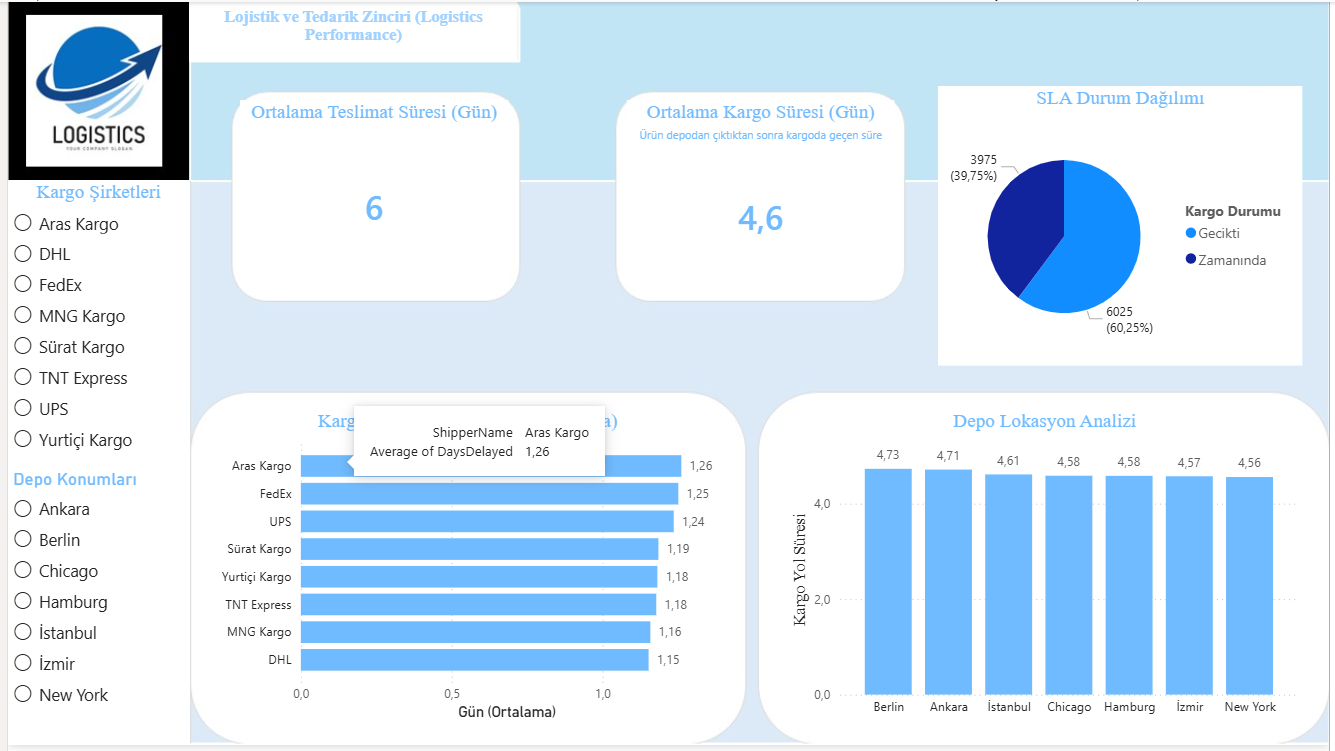

This screenshot's page, from the dashboard's own definition file:
{"tool":"powerbi","page":{"name":"Lojistik ve Tedarik Zinciri (Logistics Performance)","canvas":[1280,720],"ordinal":1},"visuals":[{"type":"textbox","box":[175.8,0,318.4,58.3],"z":0},{"type":"cardVisual","title":"Ortalama Teslimat Süresi (Gün)","fields":{"Data":["Avg(vW_Dashboard_Base.TotalDeliveryDays)"]},"box":[225.1,95.1,260.1,181.2],"z":1000},{"type":"cardVisual","title":"Ortalama Kargo Süresi (Gün)","fields":{"Data":["Avg(vW_Dashboard_Base.ShippingDurationDays)"]},"box":[600.1,95.1,259.2,181.2],"z":2000},{"type":"listSlicer","title":"Kargo Şirketleri","fields":{"Values":["vW_Dashboard_Base.ShipperName"]},"box":[0,172.2,175.8,279],"z":3000},{"type":"clusteredBarChart","title":"Kargo Firması Performansı (Ortalama)","fields":{"Category":["vW_Dashboard_Base.ShipperName"],"Y":["Avg(vW_Dashboard_Base.DaysDelayed)"]},"box":[194.6,394.7,501.4,306.8],"z":4000},{"type":"clusteredColumnChart","title":"Depo Lokasyon Analizi","fields":{"Category":["vW_Dashboard_Base.WareHouseLocation"],"Y":["Avg(vW_Dashboard_Base.ShippingDurationDays)"]},"box":[753.5,394.7,501.4,306.8],"z":5000},{"type":"pieChart","title":"SLA Durum Dağılımı","fields":{"Category":["vW_Dashboard_Base.DeliveryStatus"],"Y":["CountNonNull(vW_Dashboard_Base.OrderID)"]},"box":[901.5,81.6,353.4,270.9],"z":6000},{"type":"listSlicer","title":"Depo Konumları","fields":{"Values":["vW_Dashboard_Base.WareHouseLocation"]},"box":[0,451.2,175.8,269.1],"z":7000}]}

Visuals, with their boxes in screenshot pixels (x1, y1, x2, y2), scaled from the page's 1280x720 canvas onto the 1335x751 screenshot:
textbox: [x1=183, y1=0, x2=515, y2=61]
"Ortalama Teslimat Süresi (Gün)" cardVisual: [x1=235, y1=99, x2=506, y2=288]
"Ortalama Kargo Süresi (Gün)" cardVisual: [x1=626, y1=99, x2=896, y2=288]
"Kargo Şirketleri" listSlicer: [x1=0, y1=180, x2=183, y2=471]
"Kargo Firması Performansı (Ortalama)" clusteredBarChart: [x1=203, y1=412, x2=726, y2=732]
"Depo Lokasyon Analizi" clusteredColumnChart: [x1=786, y1=412, x2=1309, y2=732]
"SLA Durum Dağılımı" pieChart: [x1=940, y1=85, x2=1309, y2=368]
"Depo Konumları" listSlicer: [x1=0, y1=471, x2=183, y2=750]
